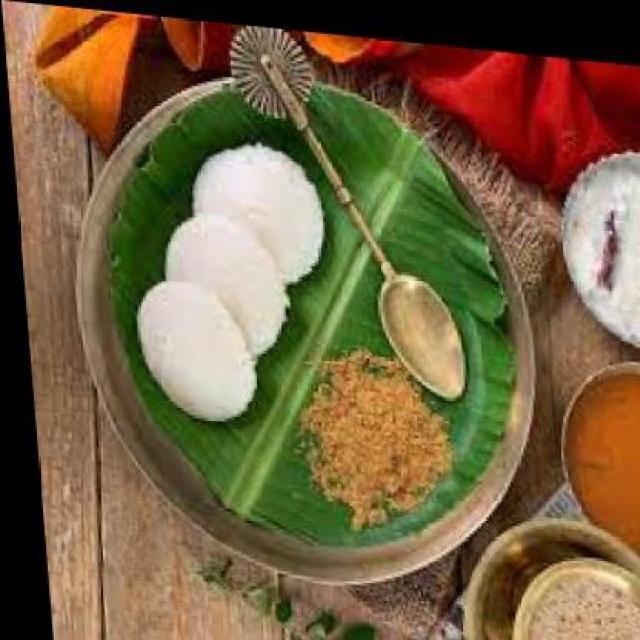idli: (185, 136, 324, 279), (158, 205, 284, 352), (128, 274, 252, 420)
